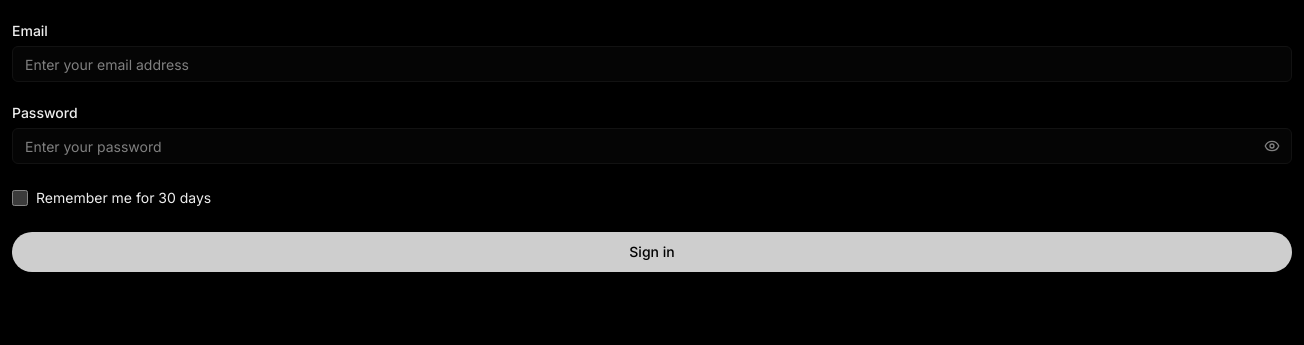
Test: LoginForm › Error Handling (Requirement 3.2, 3.7) › should display generic error for invalid credentials
Fill in credentials
Type "john@example.com" into the field labelled "Email" at [652, 64], box [12,46,1292,82]
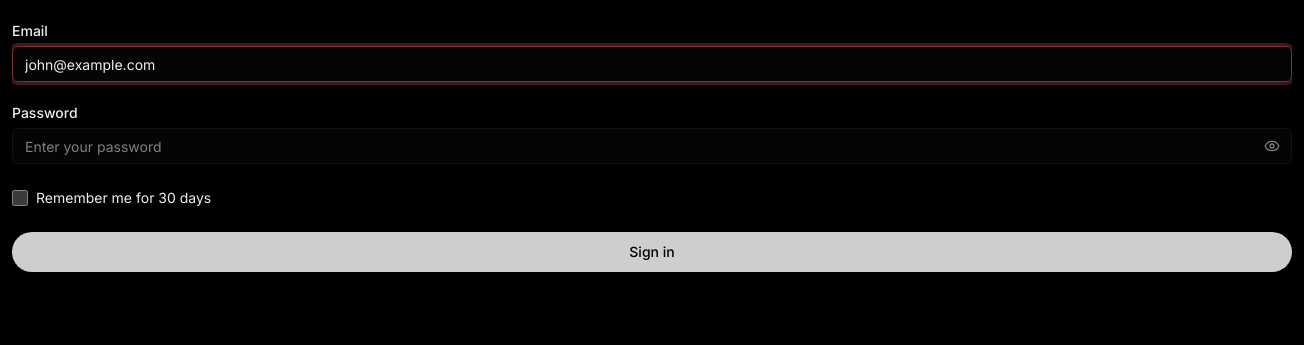
Type "WrongPass123!" into the password field with placeholder "Enter your password" at [652, 146], box [12,128,1292,164]
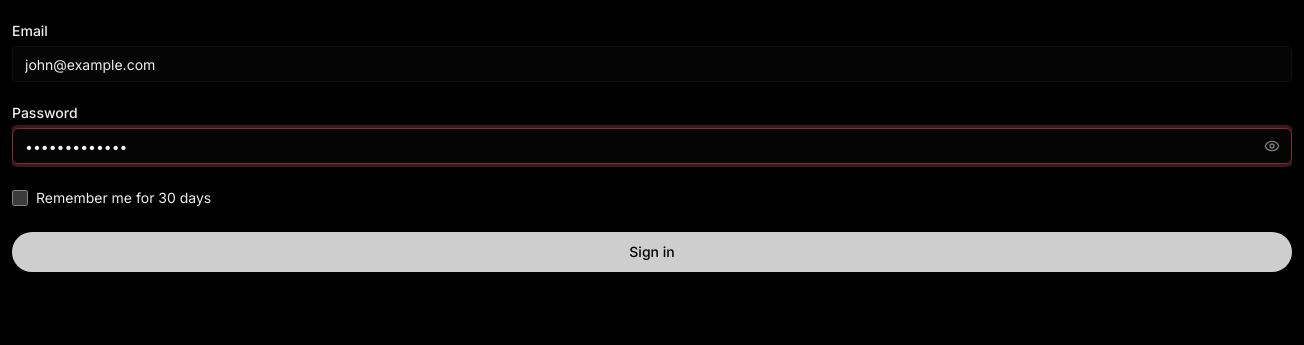
Submit form
Click the button "Sign in" at [652, 252], box [12,232,1292,272]
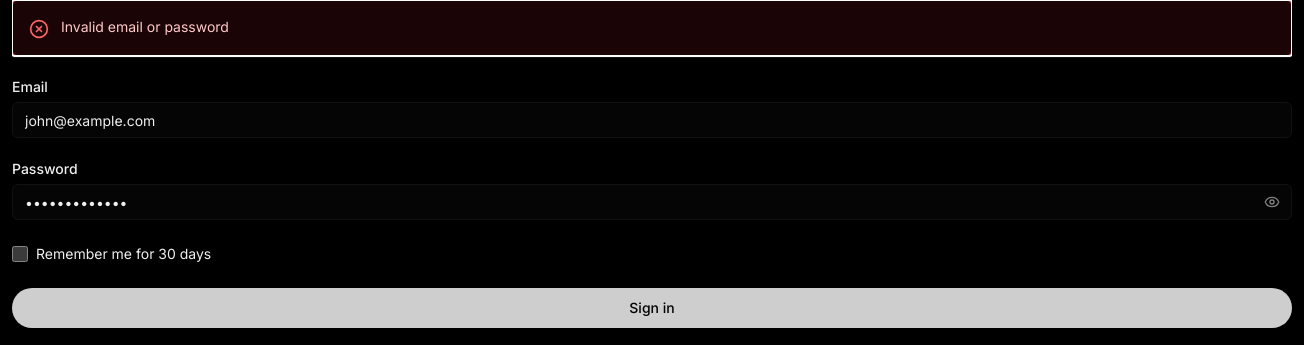
Now the text "Invalid email or password" is shown, box [61,17,229,37]
